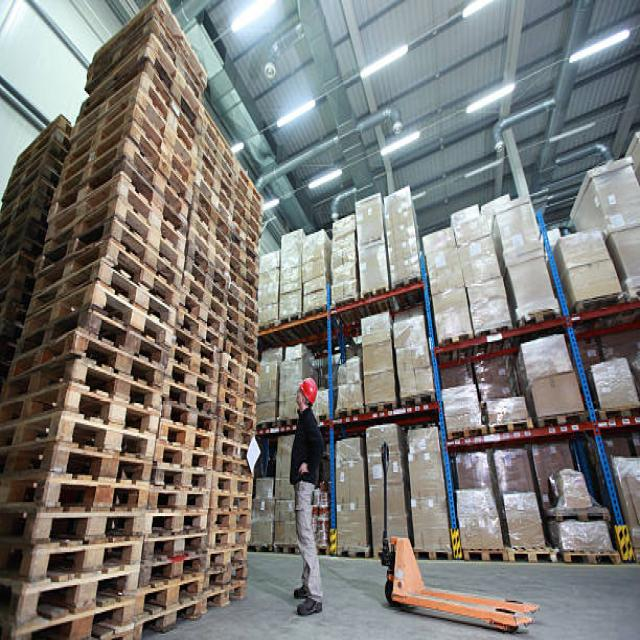Wooden-Pallets: (12, 563, 142, 636), (111, 168, 189, 275), (40, 472, 154, 525), (179, 282, 229, 345), (140, 549, 207, 595), (145, 482, 210, 519), (454, 539, 510, 569), (439, 421, 487, 456), (209, 525, 253, 555)
